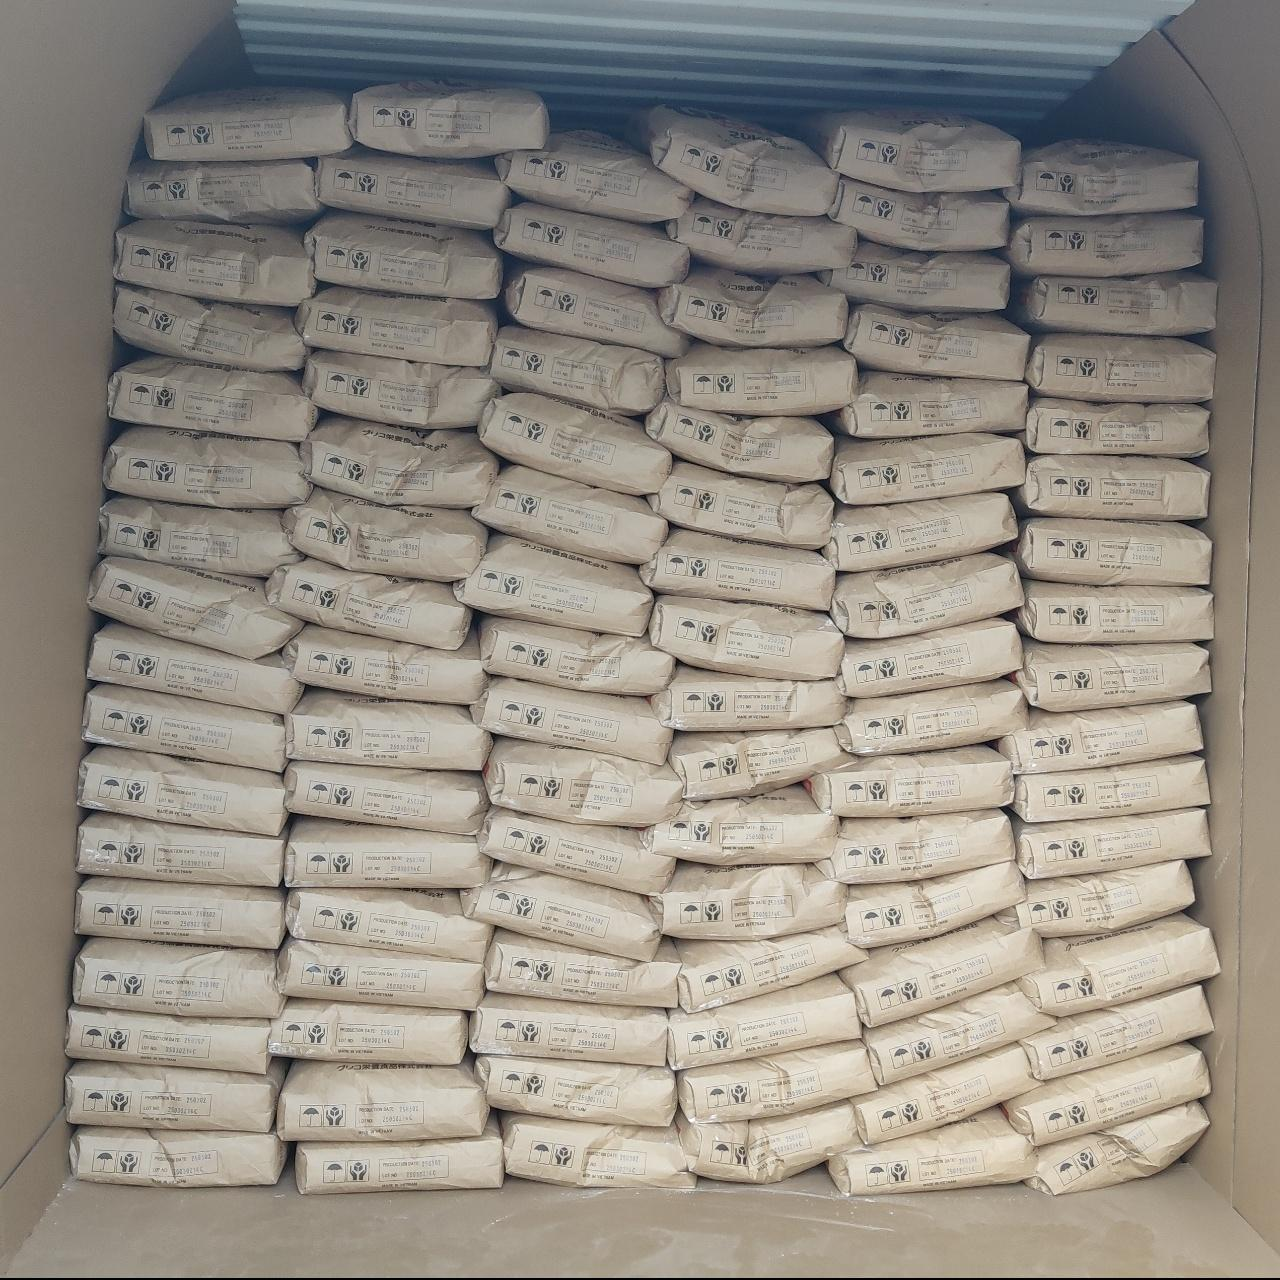sack: (624, 108, 836, 215), (842, 915, 1039, 1022), (90, 558, 300, 654), (1006, 1044, 1206, 1142), (1020, 915, 1216, 1014), (481, 394, 670, 493), (284, 488, 486, 580), (462, 864, 660, 958), (88, 624, 300, 710), (456, 536, 652, 629), (850, 1046, 1039, 1142), (474, 467, 663, 561), (864, 983, 1051, 1080), (798, 108, 1017, 190), (1020, 986, 1210, 1078), (668, 974, 860, 1065), (496, 130, 690, 220), (80, 745, 286, 830), (268, 560, 470, 646), (304, 416, 493, 506), (828, 1108, 1030, 1192), (84, 685, 284, 770), (110, 356, 316, 438), (104, 425, 309, 508), (472, 678, 670, 762), (484, 738, 678, 824), (278, 1062, 486, 1141), (114, 284, 306, 368), (506, 264, 686, 354), (481, 808, 672, 892), (496, 202, 686, 286), (116, 222, 314, 302), (74, 938, 282, 1014), (651, 595, 842, 678), (316, 148, 510, 229), (100, 496, 298, 574), (306, 215, 501, 294), (297, 286, 493, 365), (678, 1040, 874, 1118), (1030, 1102, 1206, 1190), (832, 554, 1020, 636), (648, 462, 830, 546), (490, 326, 662, 414), (672, 926, 862, 1006), (286, 690, 488, 765), (284, 626, 482, 702), (76, 876, 284, 948), (844, 862, 1022, 946), (350, 80, 546, 156), (481, 617, 670, 694), (79, 812, 284, 884), (304, 350, 498, 425), (678, 1102, 860, 1182), (642, 530, 832, 606), (486, 930, 676, 1006), (646, 400, 830, 478), (68, 1060, 284, 1126), (147, 88, 350, 158), (1005, 139, 1196, 215), (998, 702, 1200, 772), (824, 493, 1014, 568), (660, 266, 846, 342), (644, 788, 836, 862), (297, 1121, 502, 1190), (286, 888, 490, 958), (286, 762, 486, 832), (652, 864, 844, 937), (808, 745, 1012, 813), (286, 818, 490, 886), (838, 680, 1026, 754), (838, 618, 1020, 694), (818, 810, 1012, 881), (502, 1114, 692, 1186), (666, 198, 855, 270), (278, 940, 482, 1006), (1016, 808, 1206, 878), (470, 994, 666, 1062), (478, 1056, 674, 1124), (1014, 642, 1208, 710), (1008, 862, 1190, 934), (668, 343, 855, 414), (830, 434, 1022, 502), (68, 1006, 268, 1070), (1008, 272, 1214, 334), (821, 240, 1006, 309), (844, 306, 1026, 376), (1014, 518, 1210, 583), (835, 370, 1026, 436), (1014, 756, 1206, 821), (1026, 334, 1214, 399), (272, 1000, 467, 1062), (830, 181, 1006, 248), (670, 730, 846, 798), (1006, 215, 1201, 275), (72, 1126, 286, 1182), (1016, 456, 1206, 518), (128, 159, 318, 222), (1016, 583, 1212, 642), (652, 666, 844, 726), (1024, 399, 1206, 454)
